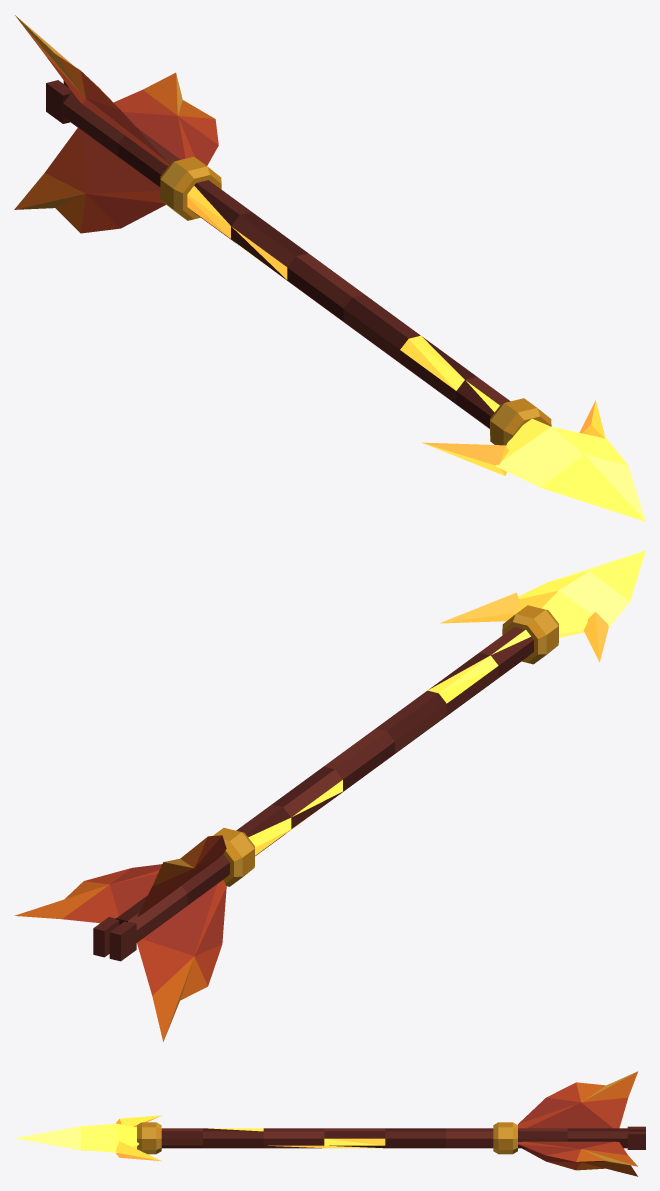
Rendered from arrow_ember.glb.
The picture shows the model from 3 angles, top to bottom: view 1: azimuth 30°, elevation 25°; view 2: azimuth 150°, elevation 25°; view 3: azimuth 270°, elevation 25°; orthographic projection. The views are drawn at different scales.
Parts seen in each view (by area): view 1: SM_Arrow_ember; view 2: SM_Arrow_ember; view 3: SM_Arrow_ember.
Part boxes in pixels (bbox=[...]): SM_Arrow_ember: bbox=[14, 15, 645, 521]; SM_Arrow_ember: bbox=[14, 550, 645, 1041]; SM_Arrow_ember: bbox=[14, 1071, 645, 1176].
Size of the model in its own units: 0.119 by 0.114 by 0.617.
